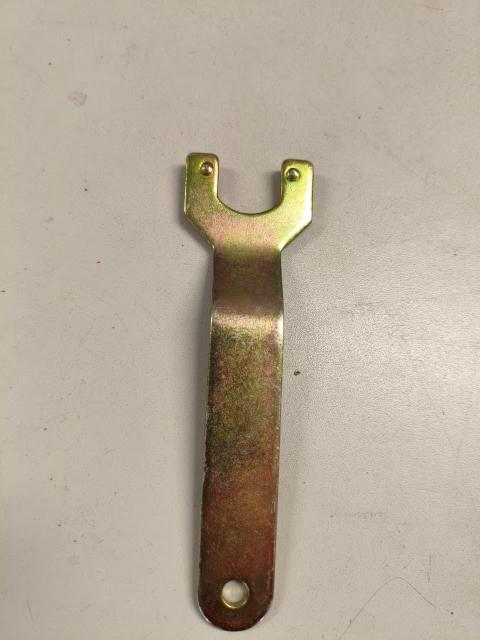Metal: (185, 148, 318, 628)
